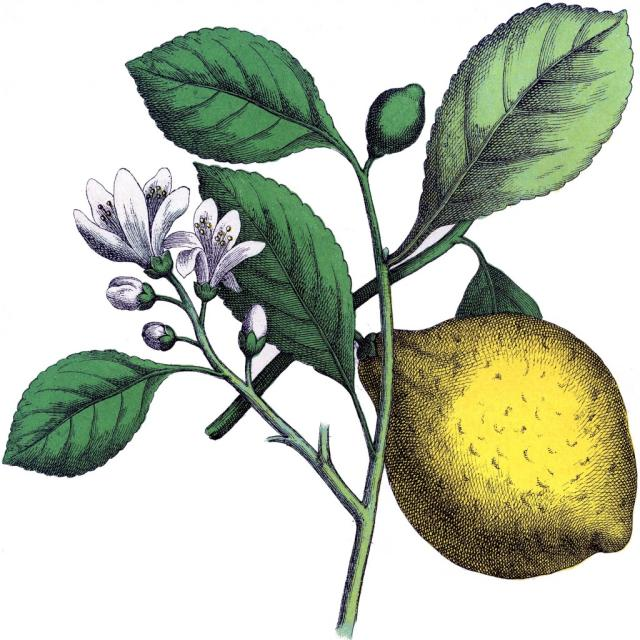lemon: (297, 264, 640, 620)
